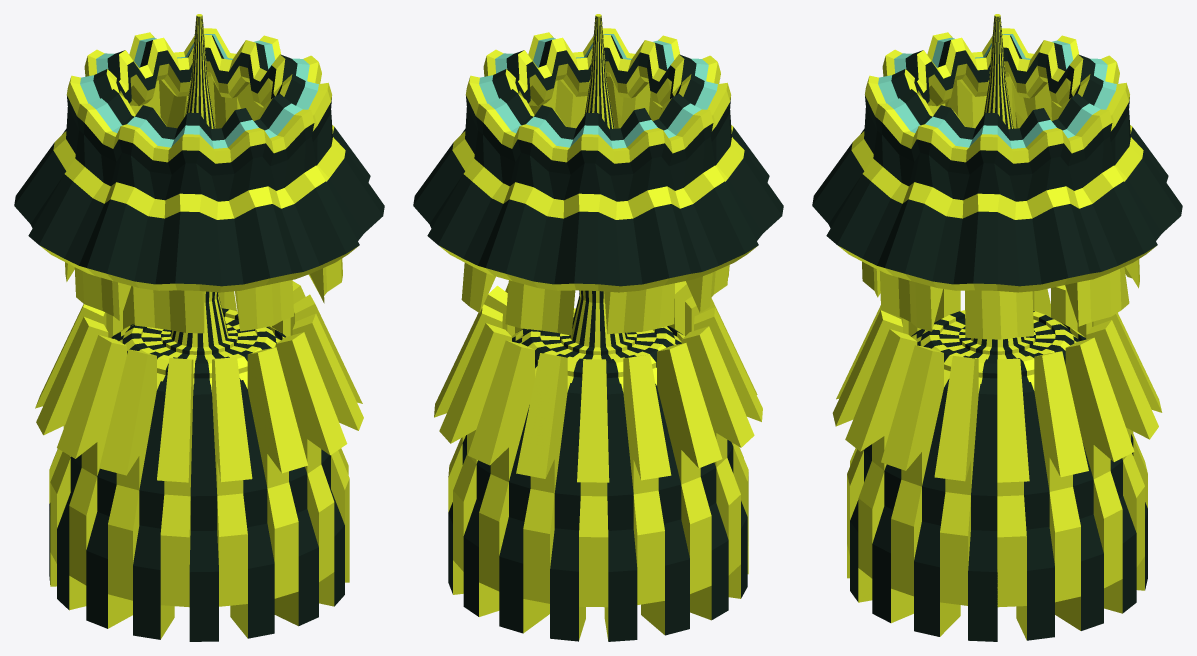
Rendered from MoneyTower.fbx.
The picture shows the model from 3 angles, left to right: view 1: azimuth 30°, elevation 25°; view 2: azimuth 150°, elevation 25°; view 3: azimuth 270°, elevation 25°; orthographic projection.
Parts seen in each view (by area): view 1: Tower, Torus; view 2: Tower, Torus; view 3: Tower, Torus.
Part boxes in pixels (<box>): Tower: <box>35,14,363,641</box>; Torus: <box>14,28,384,333</box>; Tower: <box>434,14,762,641</box>; Torus: <box>413,28,783,335</box>; Tower: <box>832,14,1162,641</box>; Torus: <box>812,28,1182,339</box>.
Bounding box in the file's own units: 1032 × 1730 × 1032.
